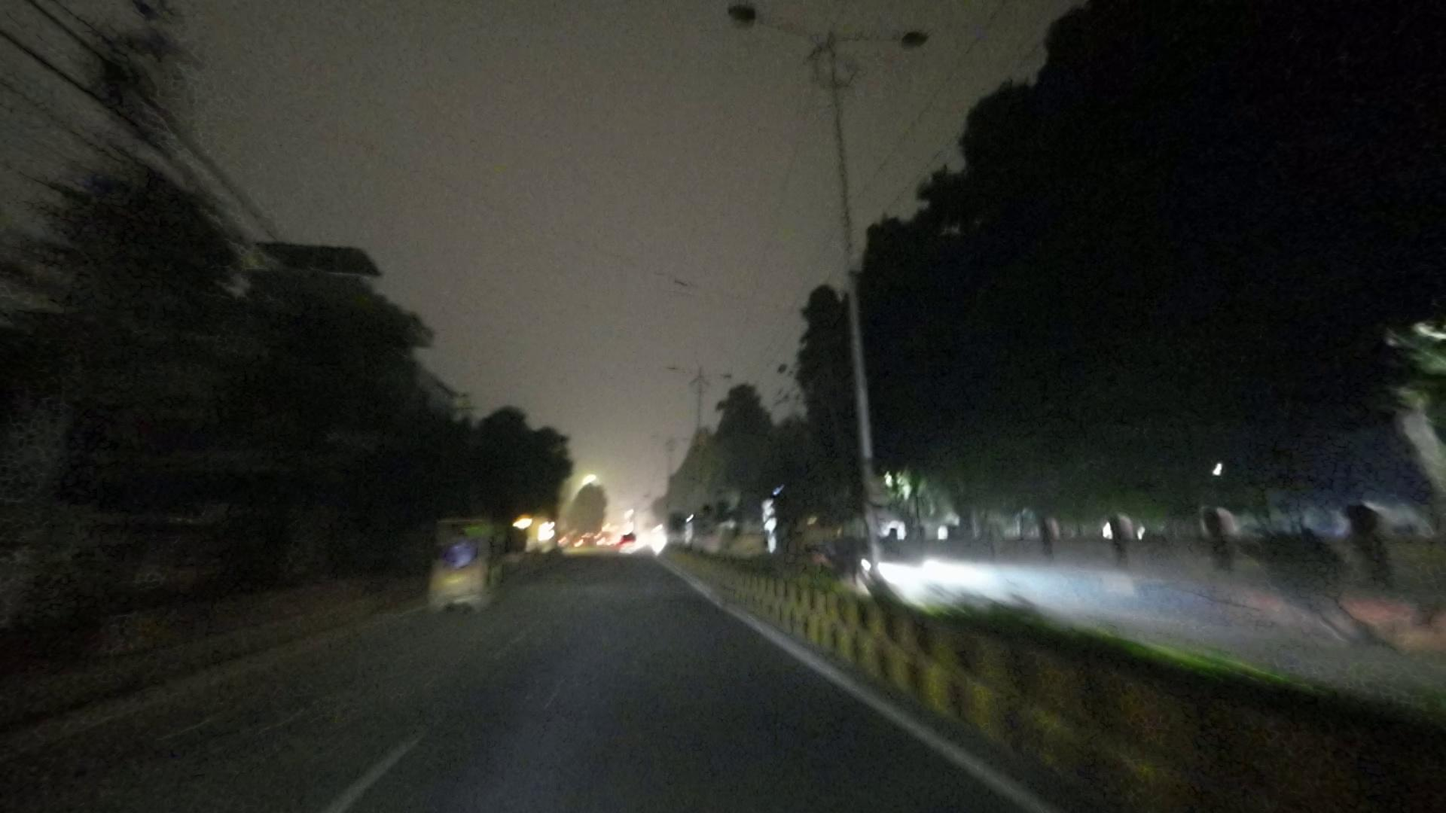streetlight: (725, 0, 815, 42), (834, 24, 934, 52)
